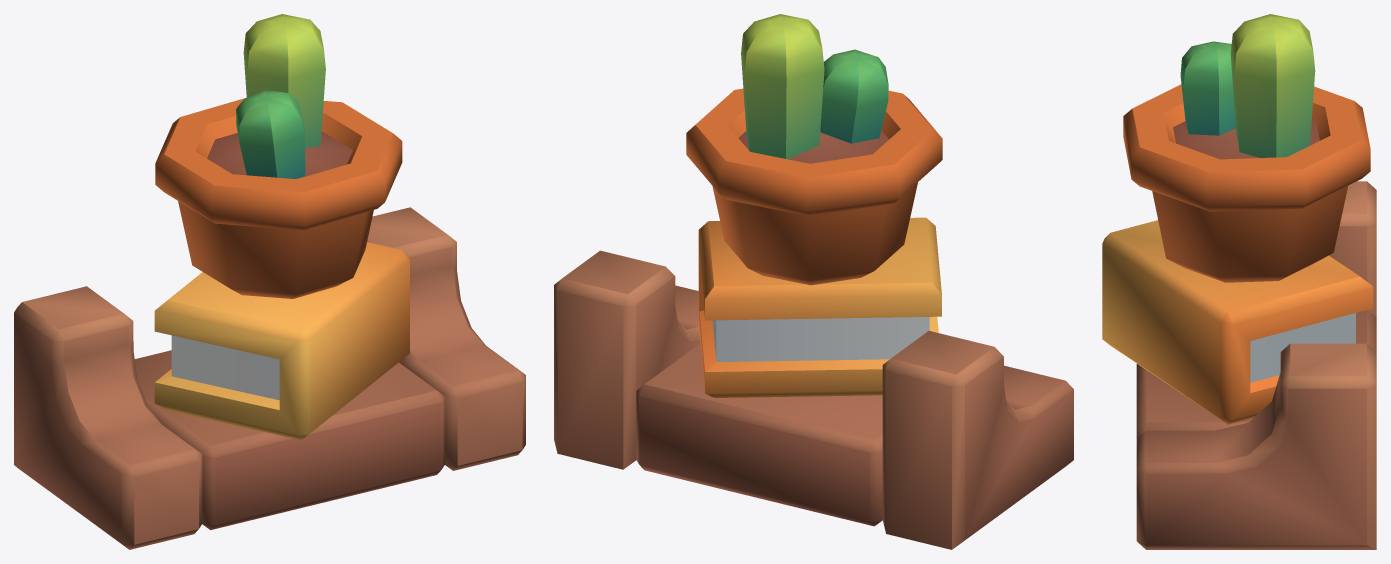
The model's file is shelf-b-small-decorated.glb.
The picture shows the model from 3 angles, left to right: view 1: azimuth 30°, elevation 25°; view 2: azimuth 150°, elevation 25°; view 3: azimuth 270°, elevation 25°; orthographic projection. The views are drawn at different scales.
Parts seen in each view (by area): view 1: shelf_B_small_decorated; view 2: shelf_B_small_decorated; view 3: shelf_B_small_decorated.
Boxes of the visible parts, bbox=[...] form: shelf_B_small_decorated: bbox=[14, 14, 525, 549]; shelf_B_small_decorated: bbox=[554, 14, 1073, 549]; shelf_B_small_decorated: bbox=[1102, 14, 1376, 549].
Bounding box in the file's own units: 1 × 1.01 × 0.5713.
